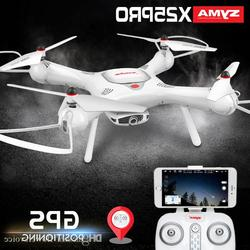drone: (1, 32, 250, 166)
